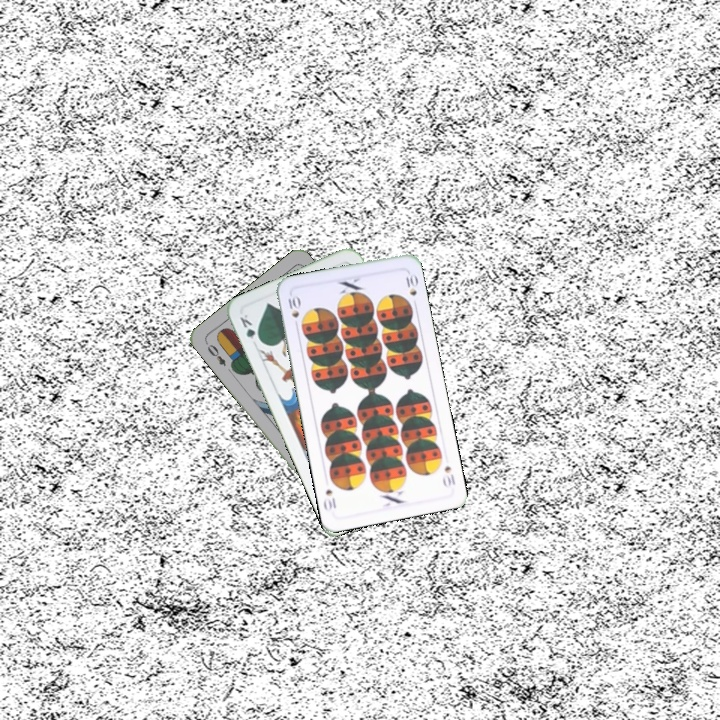EO: (201, 338, 229, 369)
GK: (236, 310, 264, 346)
S10: (283, 291, 302, 331), (439, 462, 458, 490)
